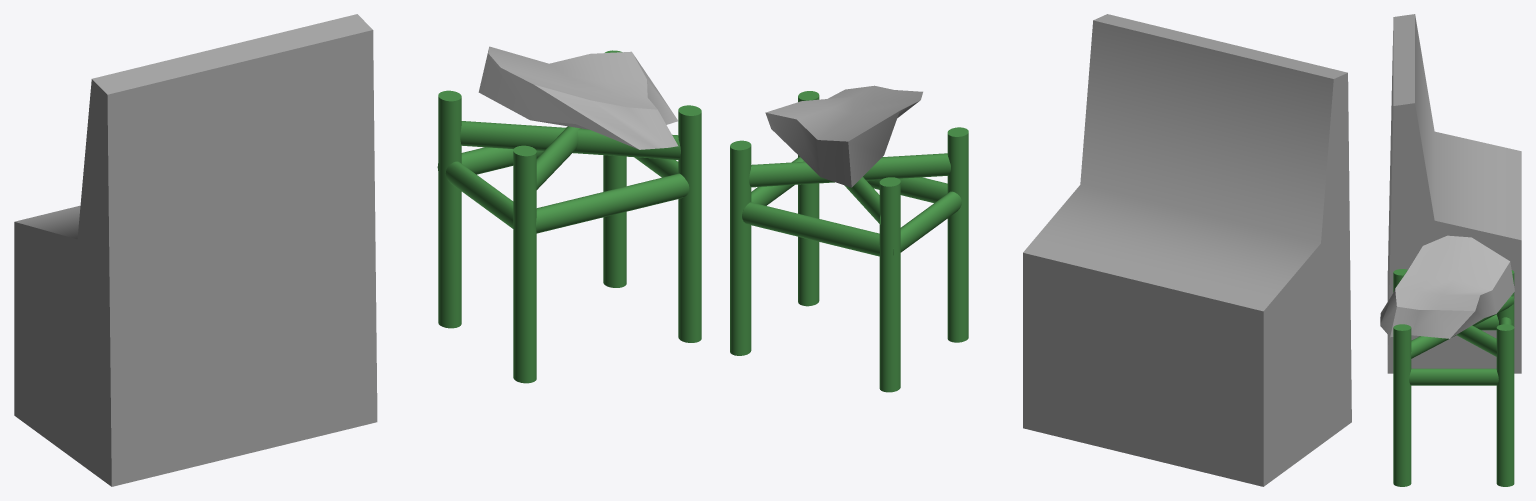
The model's file is tuguluarfix.fbx.
3 views of the same model, side by side, from view 1: azimuth 30°, elevation 25°; view 2: azimuth 150°, elevation 25°; view 3: azimuth 270°, elevation 25° (orthographic). The views are drawn at different scales.
Visible parts, largest first — view 1: pCube578, pCylinder164; view 2: pCube578, pCylinder164; view 3: pCube578, pCylinder164.
Part boxes in pixels (<box>): pCube578: <box>14,14,377,486</box>; pCylinder164: <box>437,46,701,383</box>; pCube578: <box>1023,14,1351,486</box>; pCylinder164: <box>730,85,968,392</box>; pCube578: <box>1387,14,1521,373</box>; pCylinder164: <box>1380,235,1514,486</box>.
Bounding box in the file's own units: 4.17 × 2.63 × 1.24.
